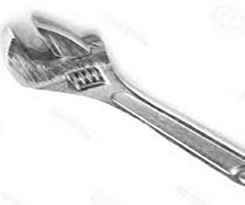wrench: (8, 13, 245, 184)
